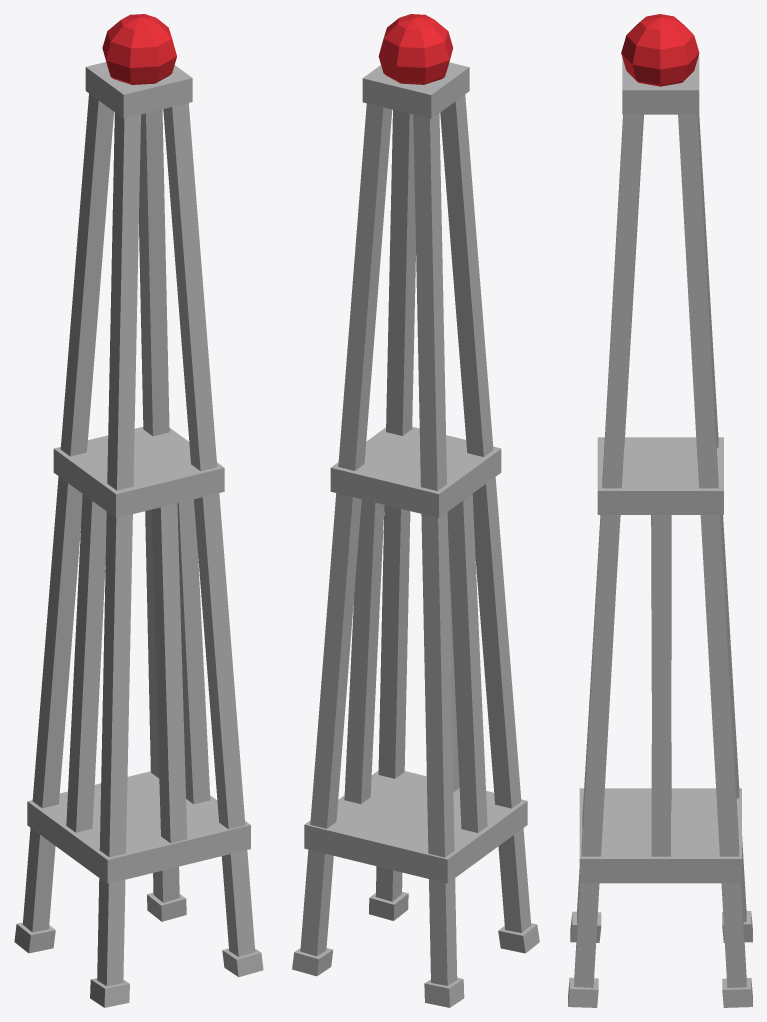
Rendered from props-roof-antenna.glb.
3 views of the same model, side by side, from view 1: azimuth 30°, elevation 25°; view 2: azimuth 150°, elevation 25°; view 3: azimuth 270°, elevation 25° (orthographic).
Visible parts, largest first — view 1: model; view 2: model; view 3: model.
Boxes of the visible parts, x1,y1,x2,y2 form: model: [14, 14, 263, 1007]; model: [292, 14, 539, 1007]; model: [568, 14, 752, 1007].
Bounding box in the file's own units: 1.43 × 8.11 × 1.43.
Materials: 1 (1 with a texture image).
